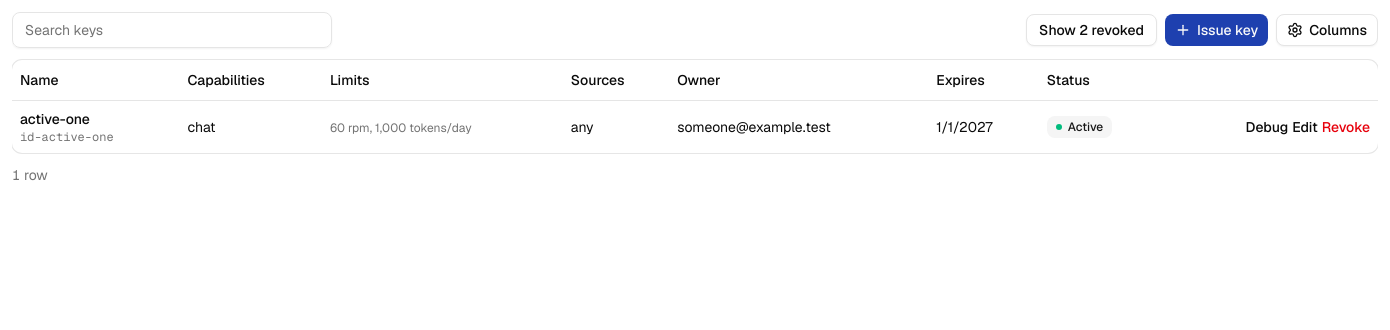
Test: searching while revoked keys are hidden › does not tell someone with keys that they have none
Type "revoked-one" into the field labelled "Search keys" at (172, 30), box left=12, top=12, right=332, bottom=48
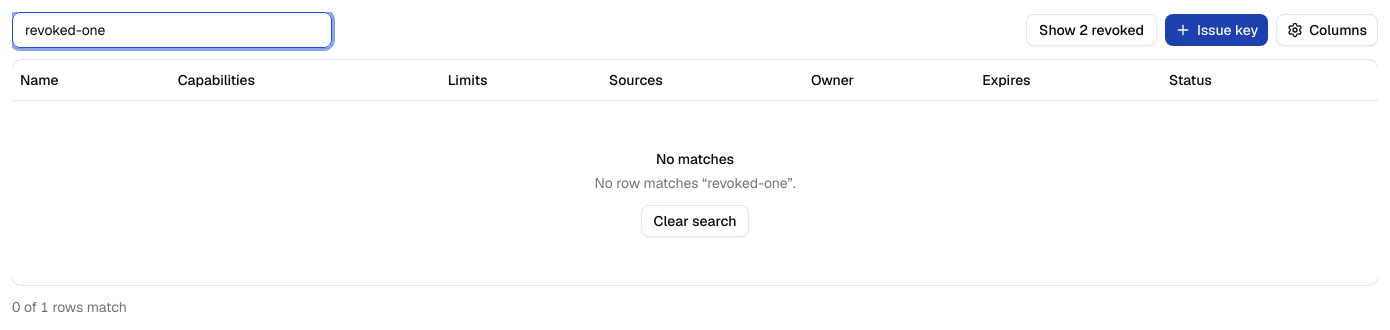
Expected: the button "Show 2 revoked" is shown, left=1026, top=14, right=1157, bottom=46
Expected: the text "No matches" is shown, left=656, top=150, right=734, bottom=168
